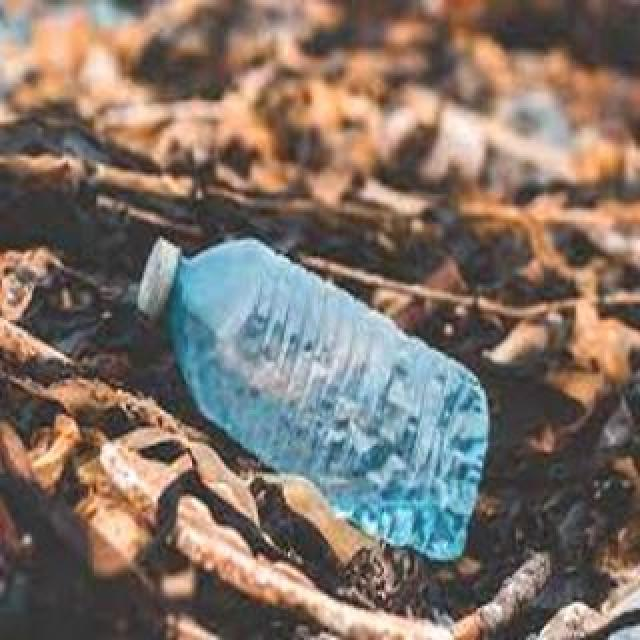Pet_Bottle: (129, 237, 497, 567)
